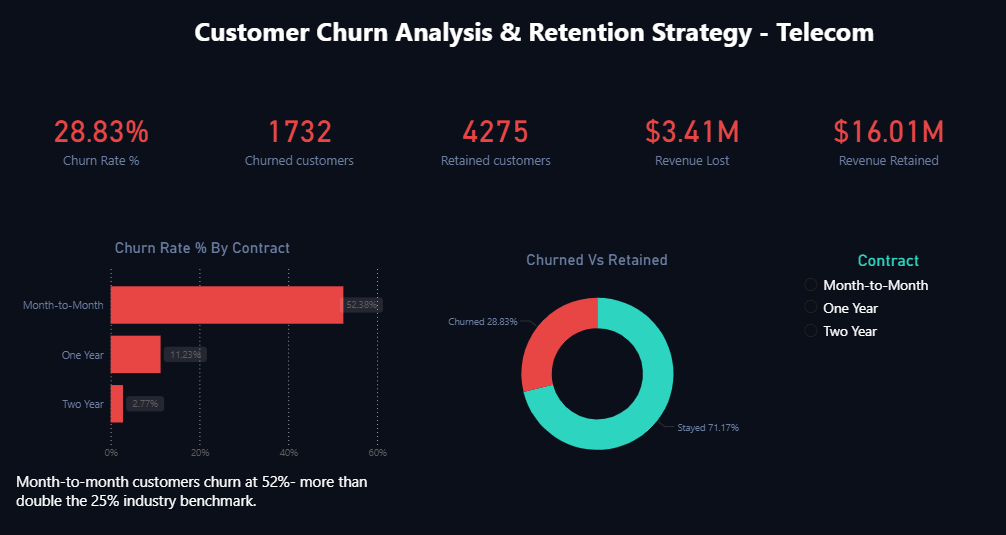

This screenshot's page, from the dashboard's own definition file:
{"tool":"powerbi","page":{"name":"Executive Summary","canvas":[1280,720],"ordinal":0},"visuals":[{"type":"textbox","box":[240,16,944,64],"z":0},{"type":"card","fields":{"Values":["customer_data.Churn_rate_pct"]},"box":[16,112,224,128],"z":1000},{"type":"card","fields":{"Values":["customer_data.Revenue_lost"]},"box":[760,112,224,128],"z":2000},{"type":"card","fields":{"Values":["customer_data.Retained customers"]},"box":[512,112,224,128],"z":3000},{"type":"card","fields":{"Values":["customer_data.Churned customers"]},"box":[264,112,224,128],"z":4000},{"type":"card","fields":{"Values":["customer_data.Revenue_retained"]},"box":[1008,112,224,128],"z":5000},{"type":"clusteredBarChart","title":"Churn Rate % By Contract","fields":{"Category":["customer_data.Contract"],"Y":["customer_data.Churn_rate_pct"]},"box":[16,304,480,288],"z":6000},{"type":"donutChart","title":"Churned Vs Retained","fields":{"Category":["customer_data.Customer_Status"],"Y":["CountNonNull(customer_data.Customer_ID)"]},"box":[544,320,416,288],"z":7000},{"type":"textbox","box":[16,592,496,112],"z":8000},{"type":"listSlicer","fields":{"Values":["customer_data.Contract"]},"box":[1008,320,224,272],"z":9000}]}

Visuals, with their boxes on the page's 1280x720 design canvas (x1, y1, x2, y2). These are canvas units, not pixel positions in the 1006x535 screenshot, which may show the page scaled, cropped or inside an application window:
textbox: x1=240, y1=16, x2=1184, y2=80
card - customer_data.Churn_rate_pct: x1=16, y1=112, x2=240, y2=240
card - customer_data.Revenue_lost: x1=760, y1=112, x2=984, y2=240
card - customer_data.Retained customers: x1=512, y1=112, x2=736, y2=240
card - customer_data.Churned customers: x1=264, y1=112, x2=488, y2=240
card - customer_data.Revenue_retained: x1=1008, y1=112, x2=1232, y2=240
"Churn Rate % By Contract" clusteredBarChart: x1=16, y1=304, x2=496, y2=592
"Churned Vs Retained" donutChart: x1=544, y1=320, x2=960, y2=608
textbox: x1=16, y1=592, x2=512, y2=704
listSlicer - customer_data.Contract: x1=1008, y1=320, x2=1232, y2=592
